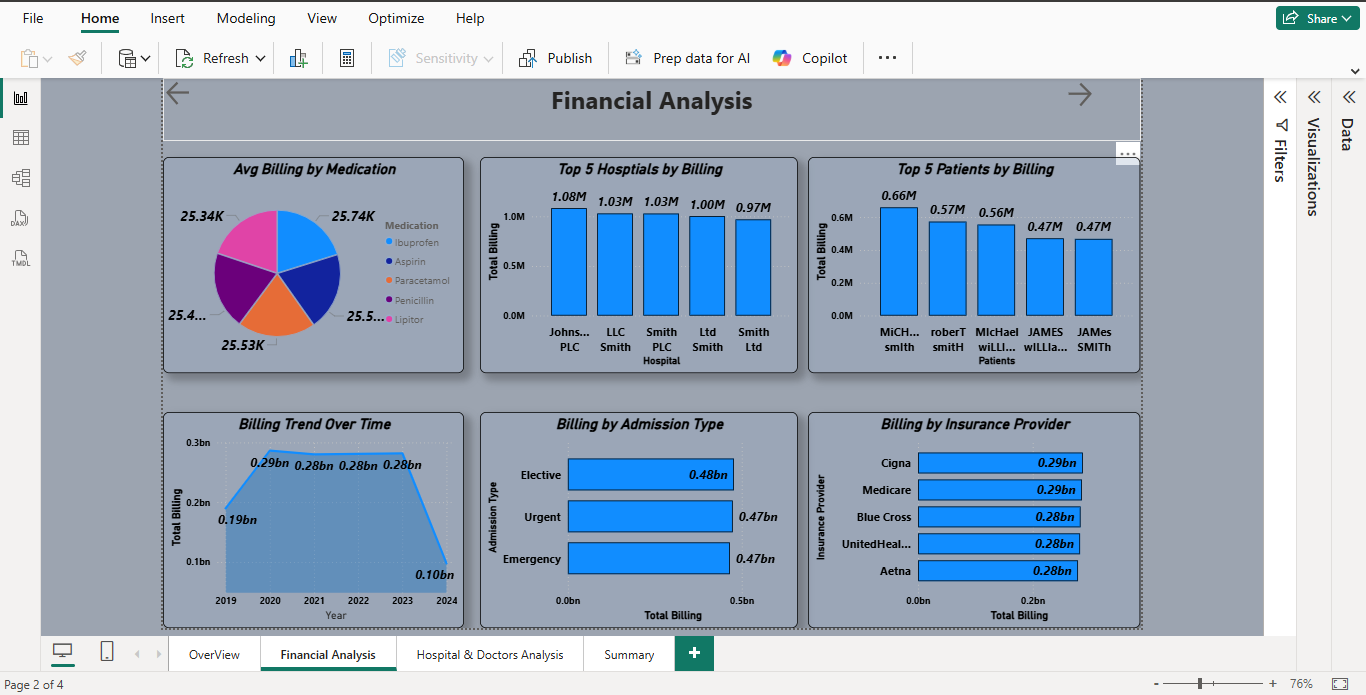

The dashboard page shown, as its layout file describes it:
{"tool":"powerbi","page":{"name":"Financial Analysis","canvas":[1280,720],"ordinal":1},"visuals":[{"type":"textbox","box":[0,0,1279.7,82.6],"z":0},{"type":"clusteredBarChart","title":"Billing by Insurance Provider","fields":{"Y":["healthcare_dataset.Total Billing"],"Category":["healthcare_dataset.Insurance Provider"]},"box":[844.9,437.7,434.8,282.6],"z":1000},{"type":"lineChart","title":"Billing Trend Over Time","fields":{"Category":["healthcare_dataset.Date of Admission.Variation.Date Hierarchy.Year","healthcare_dataset.Date of Admission.Variation.Date Hierarchy.Quarter","healthcare_dataset.Date of Admission.Variation.Date Hierarchy.Month","healthcare_dataset.Date of Admission.Variation.Date Hierarchy.Day"],"Y":["healthcare_dataset.Total Billing"]},"box":[0,437.7,394.2,282.6],"z":2000},{"type":"clusteredBarChart","title":"Billing by Admission Type","fields":{"Y":["healthcare_dataset.Total Billing"],"Category":["healthcare_dataset.Admission Type"]},"box":[414.5,437.7,415.9,282.6],"z":3000},{"type":"columnChart","title":"Top 5 Hosptials by Billing","fields":{"Category":["healthcare_dataset.Hospital"],"Y":["healthcare_dataset.Total Billing"]},"box":[414.5,102.9,415.9,282.6],"z":4000},{"type":"columnChart","title":"Top 5 Patients by Billing","fields":{"Y":["healthcare_dataset.Total Billing"],"Category":["healthcare_dataset.Patients"]},"box":[844.9,102.9,434.8,282.6],"z":5000},{"type":"pieChart","title":"Avg Billing by Medication","fields":{"Y":["healthcare_dataset.Avg Billing"],"Category":["healthcare_dataset.Medication"]},"box":[0,102.9,394.2,282.6],"z":6000},{"type":"actionButton","box":[0,0,100,40],"z":7000},{"type":"actionButton","box":[1179.7,1.4,100,40.6],"z":8000}]}

Visuals, with their boxes on the page's 1280x720 design canvas (x1, y1, x2, y2). These are canvas units, not pixel positions in the 1366x695 screenshot, which may show the page scaled, cropped or inside an application window:
textbox: 0, 0, 1280, 83
"Billing by Insurance Provider" clusteredBarChart: 845, 438, 1280, 720
"Billing Trend Over Time" lineChart: 0, 438, 394, 720
"Billing by Admission Type" clusteredBarChart: 414, 438, 830, 720
"Top 5 Hosptials by Billing" columnChart: 414, 103, 830, 386
"Top 5 Patients by Billing" columnChart: 845, 103, 1280, 386
"Avg Billing by Medication" pieChart: 0, 103, 394, 386
actionButton: 0, 0, 100, 40
actionButton: 1180, 1, 1280, 42
